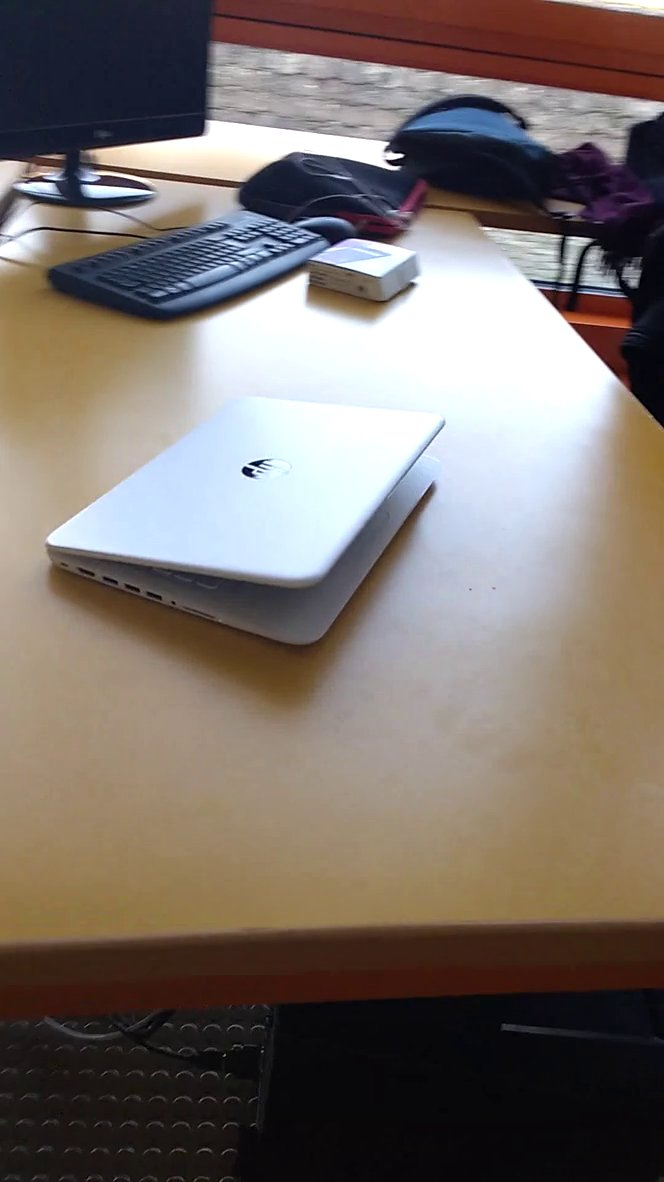laptop: (40, 389, 469, 664)
